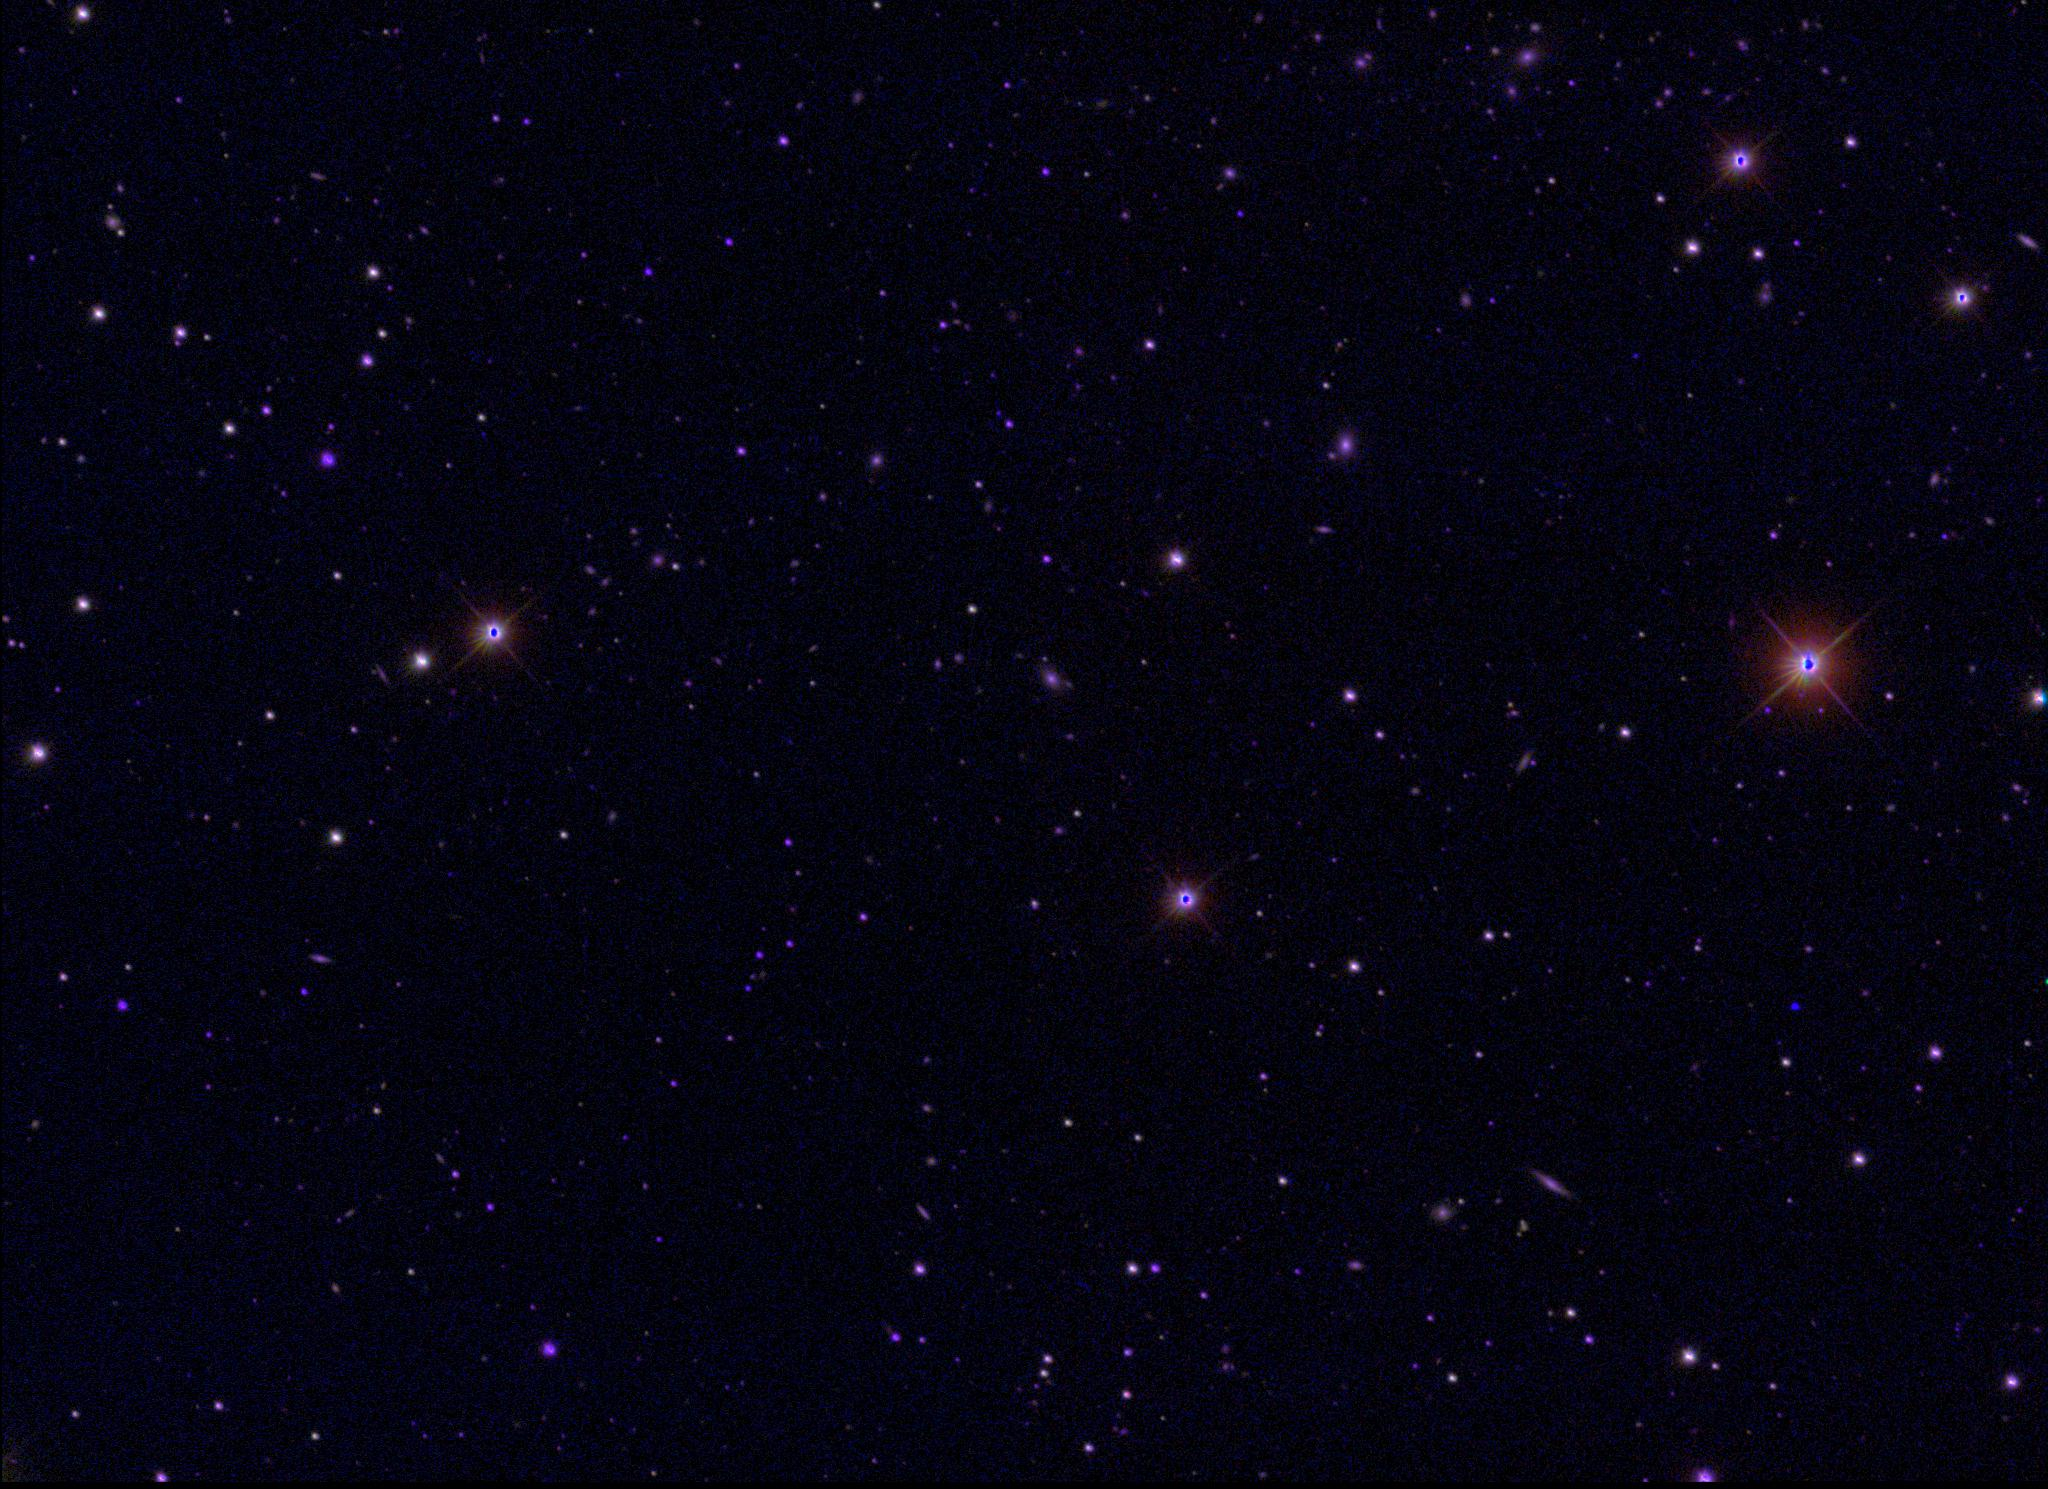L: (1787, 1001, 1802, 1013)
